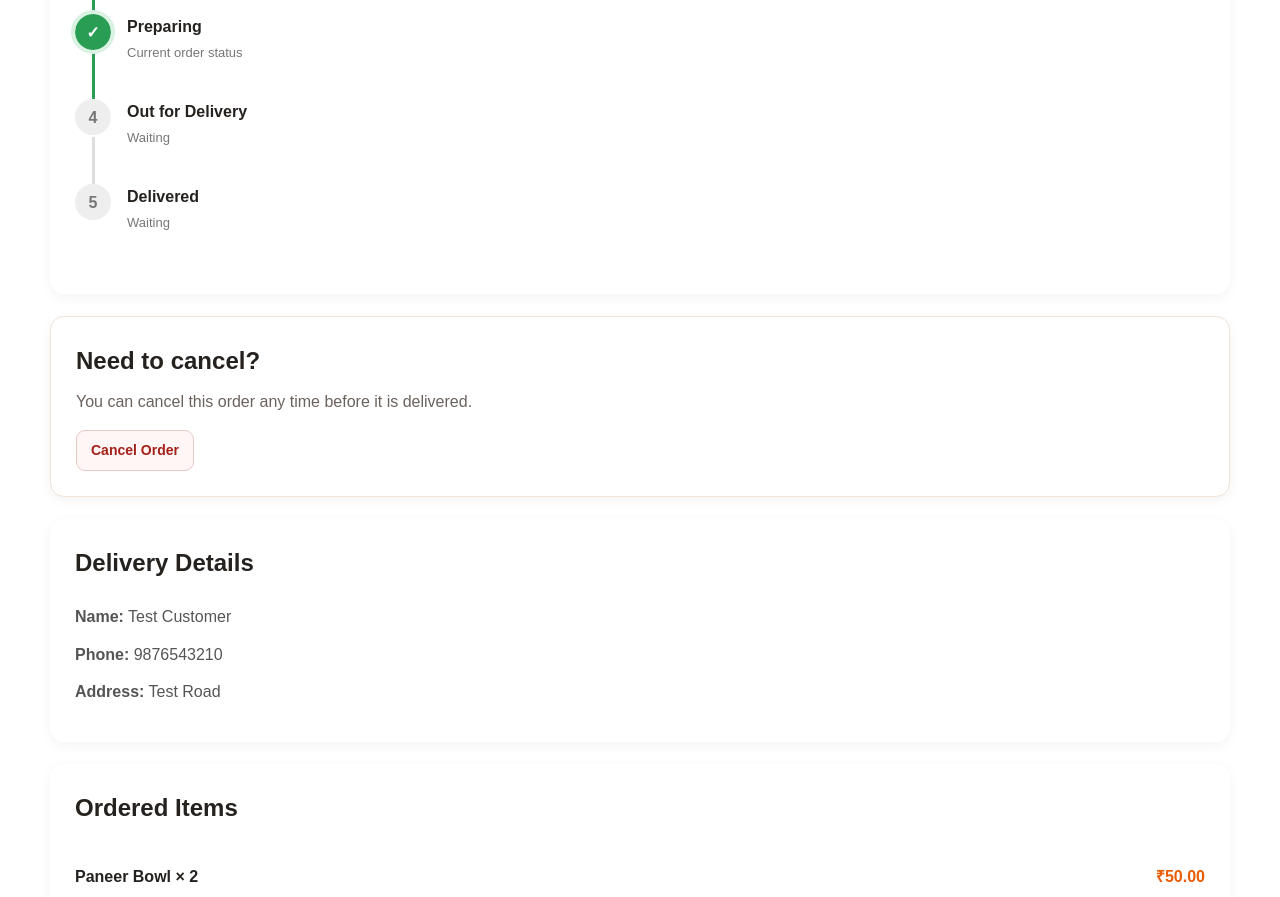
Scenario: order tracking page › shows order details and cancels an active order
(page scrolled)
What coordinates should you click on to do the following:
click the button "Cancel Order"
I would click on:
 (135, 451)
Its box is [76, 430, 194, 471].
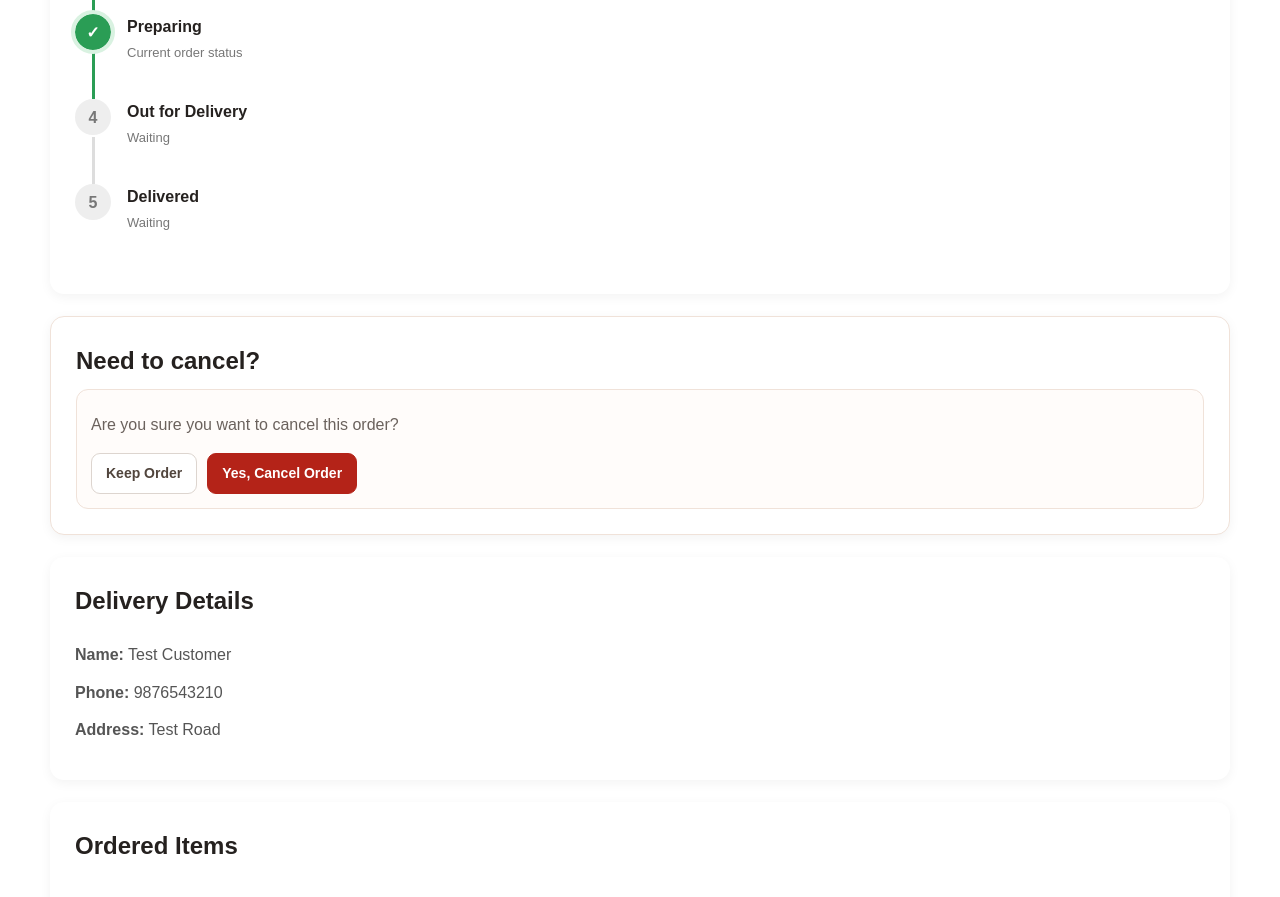
What coordinates should you click on to do the following:
click the button "Yes, Cancel Order"
I would click on:
 (282, 474)
Its box is [207, 453, 357, 494].
(page scrolled)
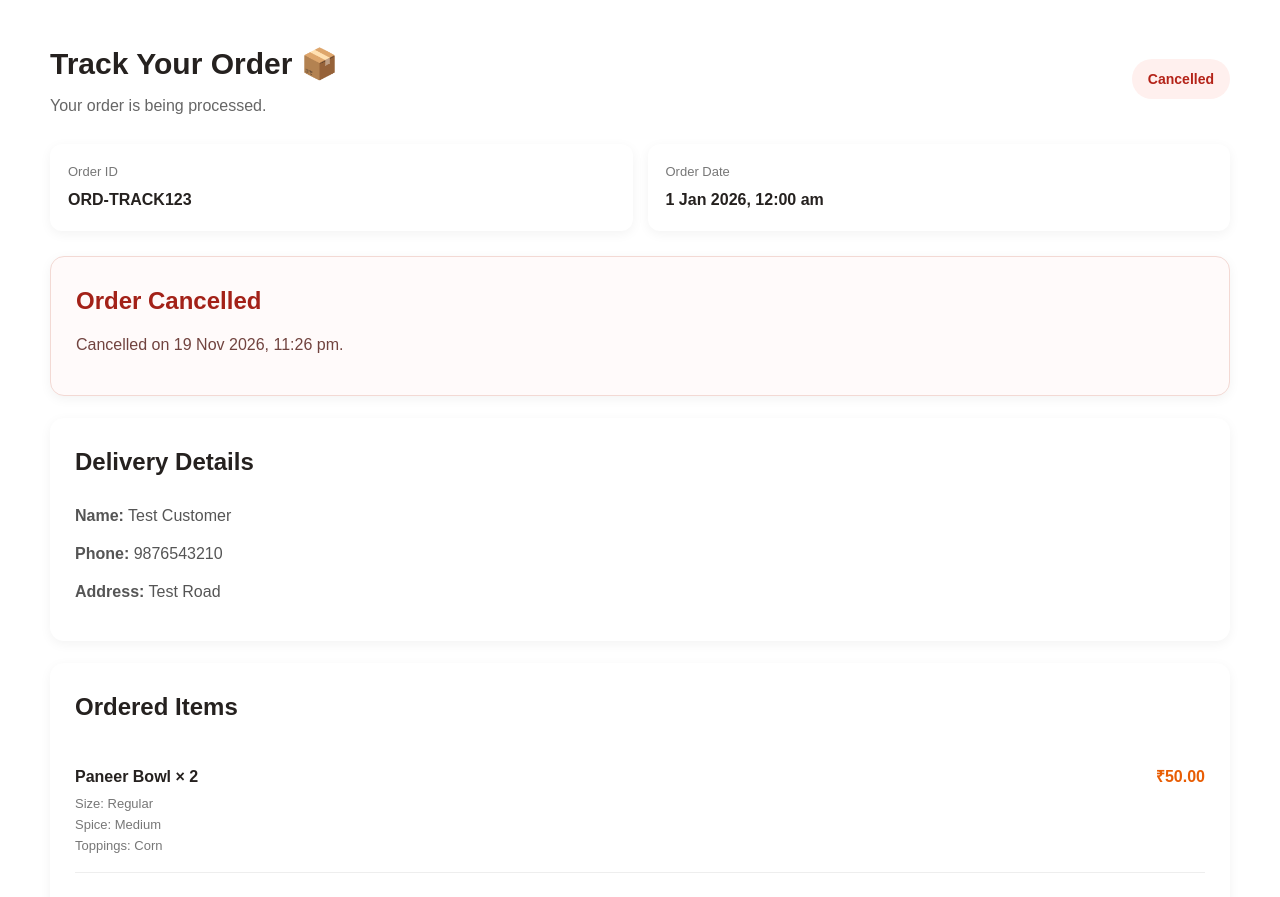
Check: the text "Order Cancelled" is shown, box [76, 287, 261, 314]
Check: the text "Cancelled" is shown, box [1132, 59, 1230, 100]
